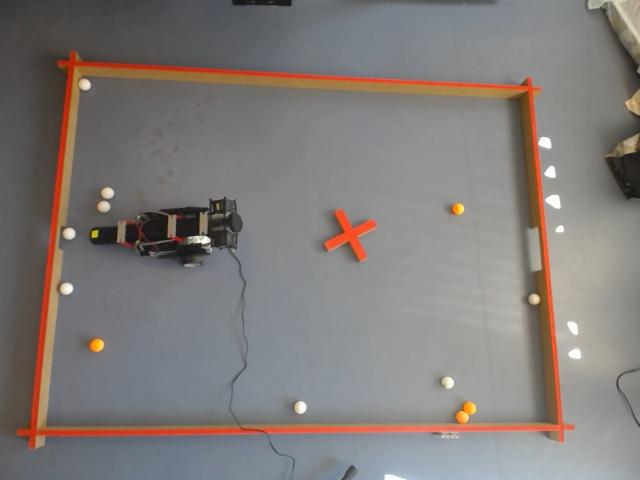orange: (89, 338, 105, 352), (463, 402, 476, 415), (452, 203, 465, 215), (456, 411, 469, 423)
robot: (89, 198, 243, 268)
robot-front: (89, 227, 114, 245)
white: (97, 200, 111, 214), (294, 400, 307, 414), (60, 282, 73, 295), (441, 376, 454, 389), (62, 228, 76, 240), (101, 187, 115, 199), (78, 79, 91, 91), (528, 294, 540, 304)
